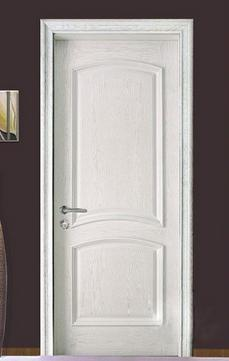door: (54, 41, 183, 352)
